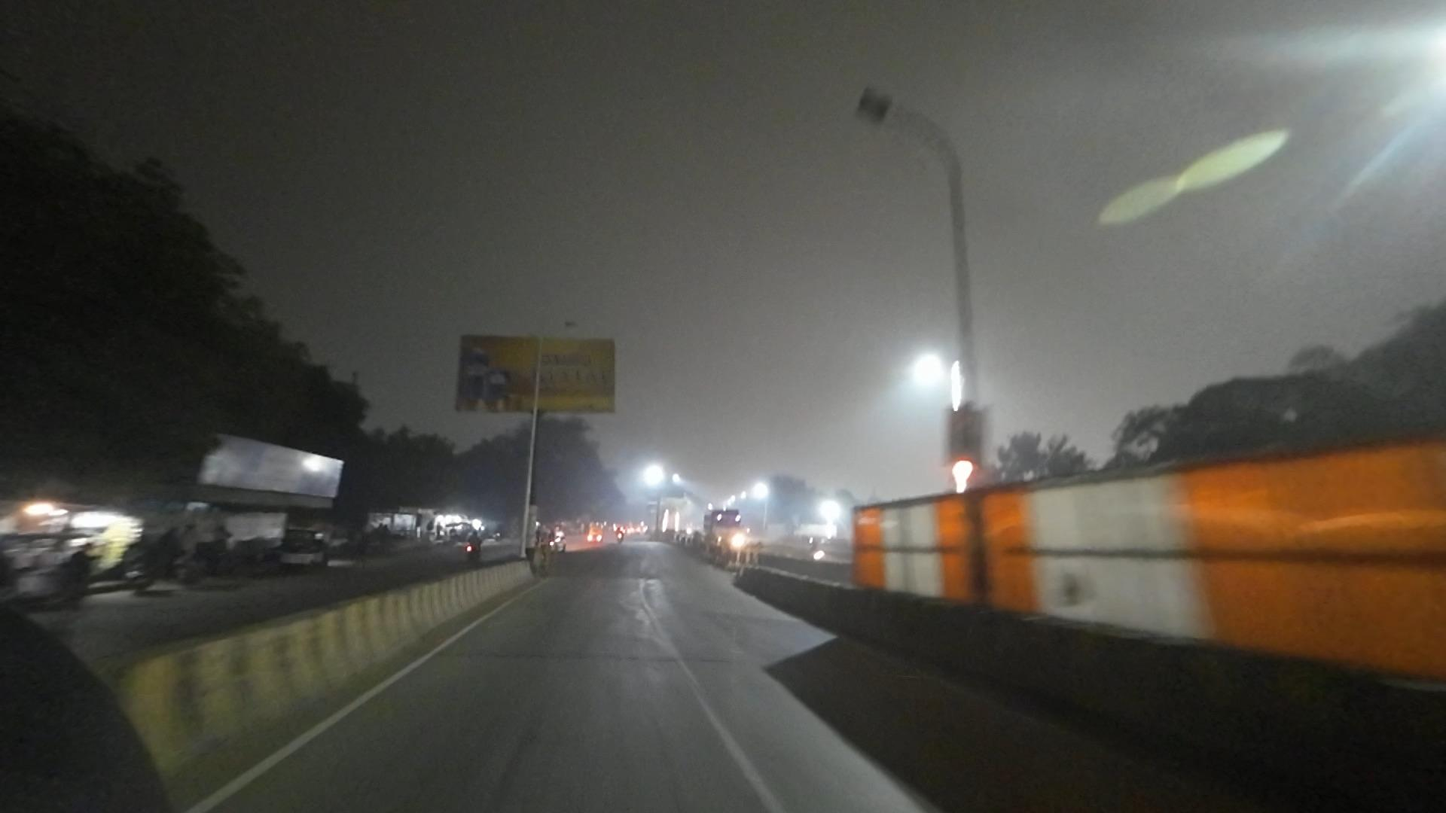streetlight: (839, 82, 946, 136), (544, 319, 578, 333)
